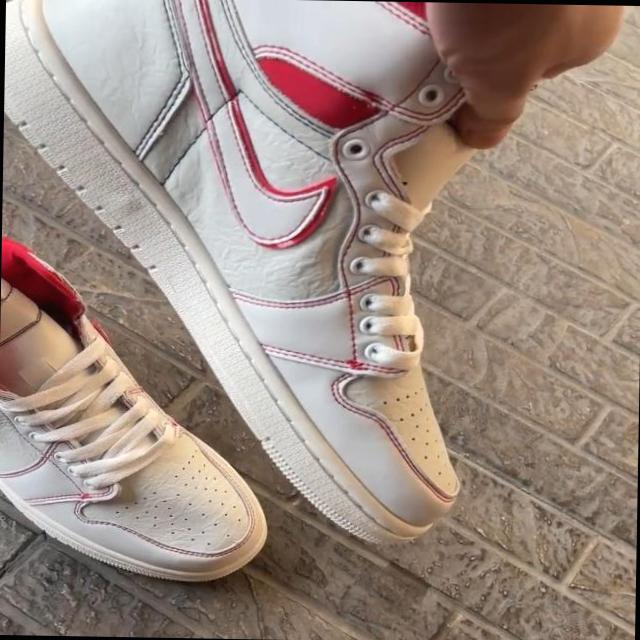nike_fake_jordan: (0, 0, 507, 550), (0, 226, 274, 582)
